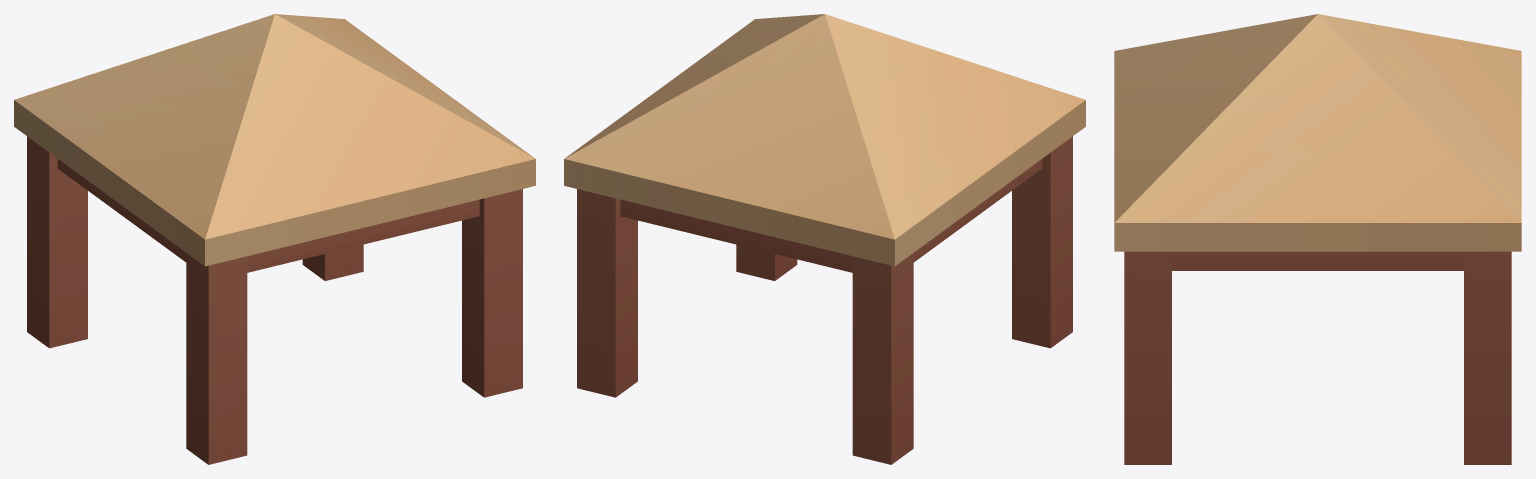
The model's file is kk_tent_v1.glb.
The picture shows the model from 3 angles, left to right: view 1: azimuth 30°, elevation 25°; view 2: azimuth 150°, elevation 25°; view 3: azimuth 270°, elevation 25°; orthographic projection. The views are drawn at different scales.
Parts seen in each view (by area): view 1: tent; view 2: tent; view 3: tent.
Boxes of the visible parts, <box> form: tent: <box>14,14,535,464</box>; tent: <box>564,14,1085,464</box>; tent: <box>1114,14,1521,464</box>.
Size of the model in its own units: 0.516 by 0.516 by 0.516.
Materials: 1 (1 with a texture image).
